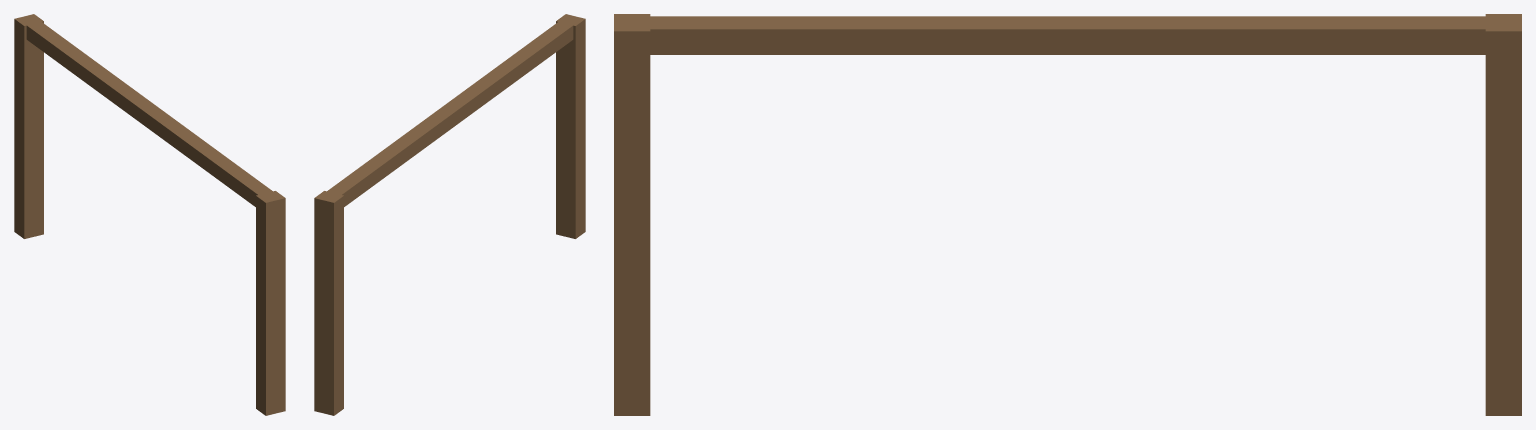
File: railing-4.glb
3 renders of one model, left to right at view 1: azimuth 30°, elevation 25°; view 2: azimuth 150°, elevation 25°; view 3: azimuth 270°, elevation 25°, orthographic. The views are drawn at different scales.
Visible parts, largest first — view 1: railing; view 2: railing; view 3: railing.
Part boxes in pixels (x1=…): railing: x1=14, y1=14, x2=285, y2=415; railing: x1=314, y1=14, x2=585, y2=415; railing: x1=614, y1=14, x2=1521, y2=415.
Size of the model in its own units: 0.2918 by 3 by 6.42.
